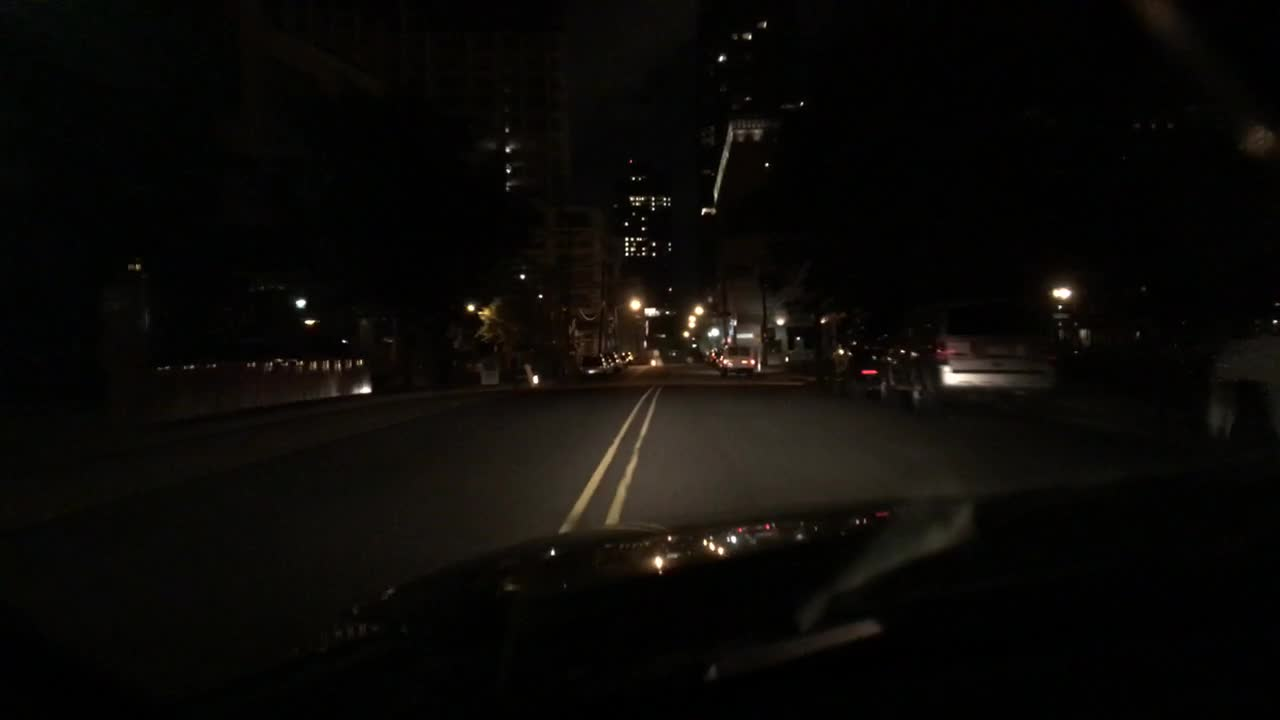car: (870, 290, 1059, 415), (1200, 331, 1279, 449), (827, 309, 909, 400), (719, 344, 761, 378), (577, 349, 609, 376), (599, 351, 617, 374), (714, 344, 727, 369), (609, 347, 624, 366), (705, 344, 720, 361), (617, 347, 631, 361)
